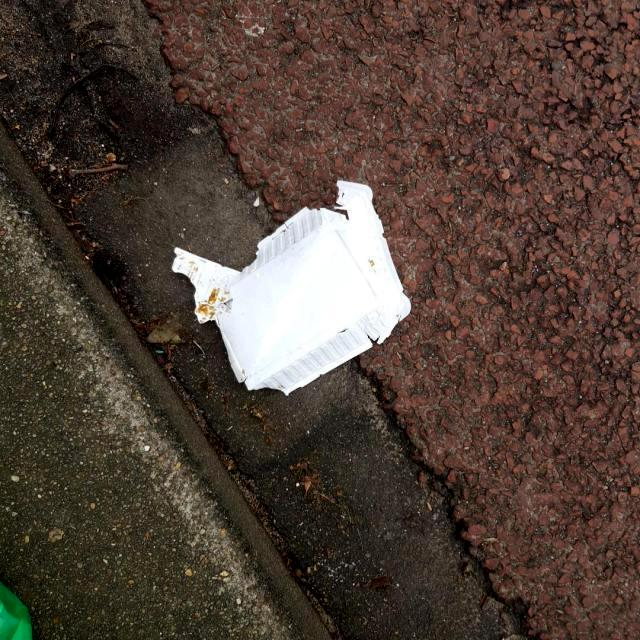Paper: (170, 176, 414, 398)
